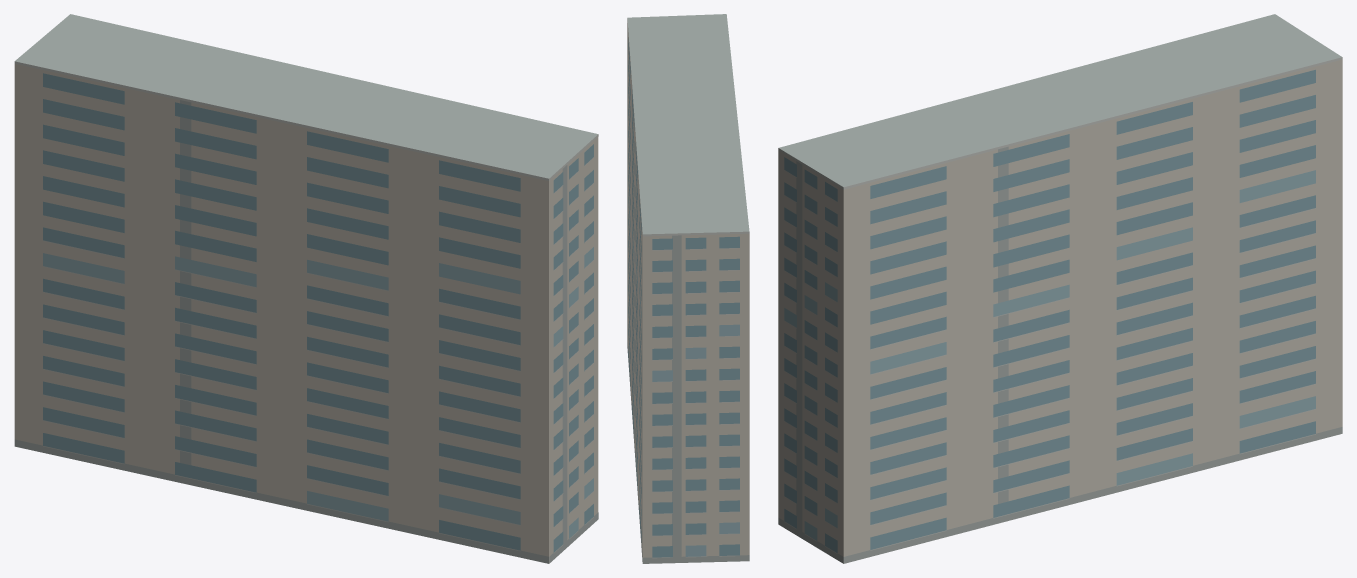
Rendered from residential-035fcd13-29e9-4c5d-88b4-f0c51ae6c82a.glb.
The picture shows the model from 3 angles, left to right: view 1: azimuth 30°, elevation 25°; view 2: azimuth 150°, elevation 25°; view 3: azimuth 270°, elevation 25°; orthographic projection. The views are drawn at different scales.
Visible parts, largest first — view 1: residential-035fcd13-29e9-4c5d-88b4-f0c51ae6c82a.tmp; view 2: residential-035fcd13-29e9-4c5d-88b4-f0c51ae6c82a.tmp; view 3: residential-035fcd13-29e9-4c5d-88b4-f0c51ae6c82a.tmp.
Part boxes in pixels (bbox=[...]): residential-035fcd13-29e9-4c5d-88b4-f0c51ae6c82a.tmp: bbox=[14, 14, 598, 563]; residential-035fcd13-29e9-4c5d-88b4-f0c51ae6c82a.tmp: bbox=[627, 14, 749, 563]; residential-035fcd13-29e9-4c5d-88b4-f0c51ae6c82a.tmp: bbox=[778, 14, 1342, 563].
Bounding box in the file's own units: 39.34 × 39.85 × 54.1.
